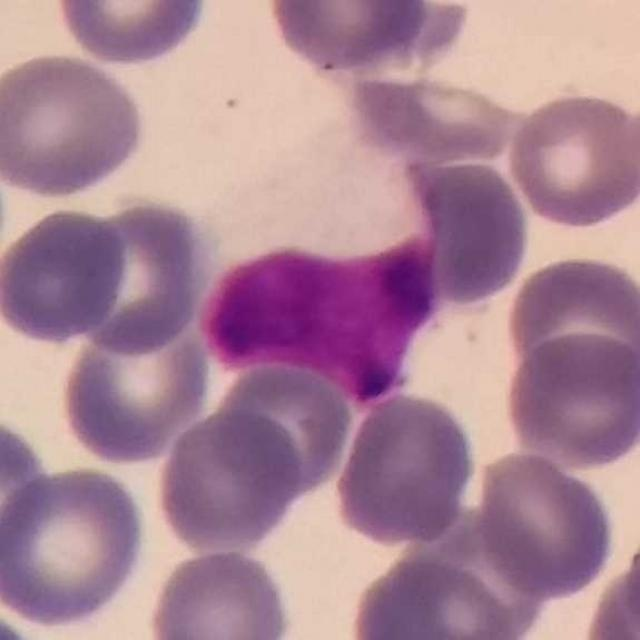Lymphocyte: (204, 111, 447, 411)
RBC: (62, 193, 216, 360), (1, 462, 151, 632), (328, 388, 481, 550), (54, 313, 215, 466), (153, 405, 306, 557), (0, 49, 149, 201), (471, 447, 619, 599), (210, 357, 356, 504), (501, 328, 640, 471), (504, 86, 640, 232), (502, 250, 640, 392), (405, 154, 533, 307), (0, 204, 131, 347), (340, 68, 530, 165), (345, 551, 524, 640), (144, 545, 295, 640), (262, 0, 438, 78), (48, 0, 215, 69), (0, 410, 53, 574), (580, 561, 640, 640), (620, 513, 640, 640), (0, 132, 11, 294)
